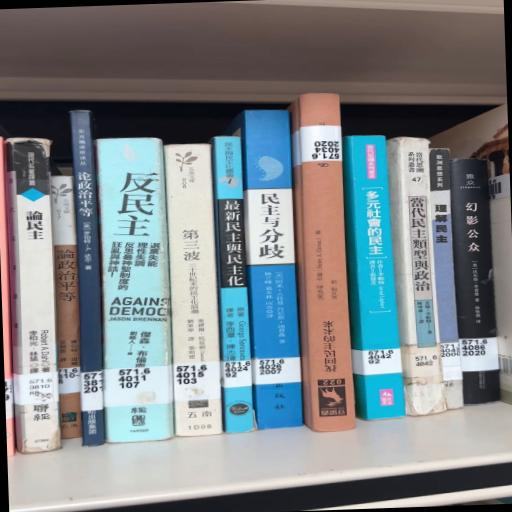reverse: (288, 93, 354, 431)
